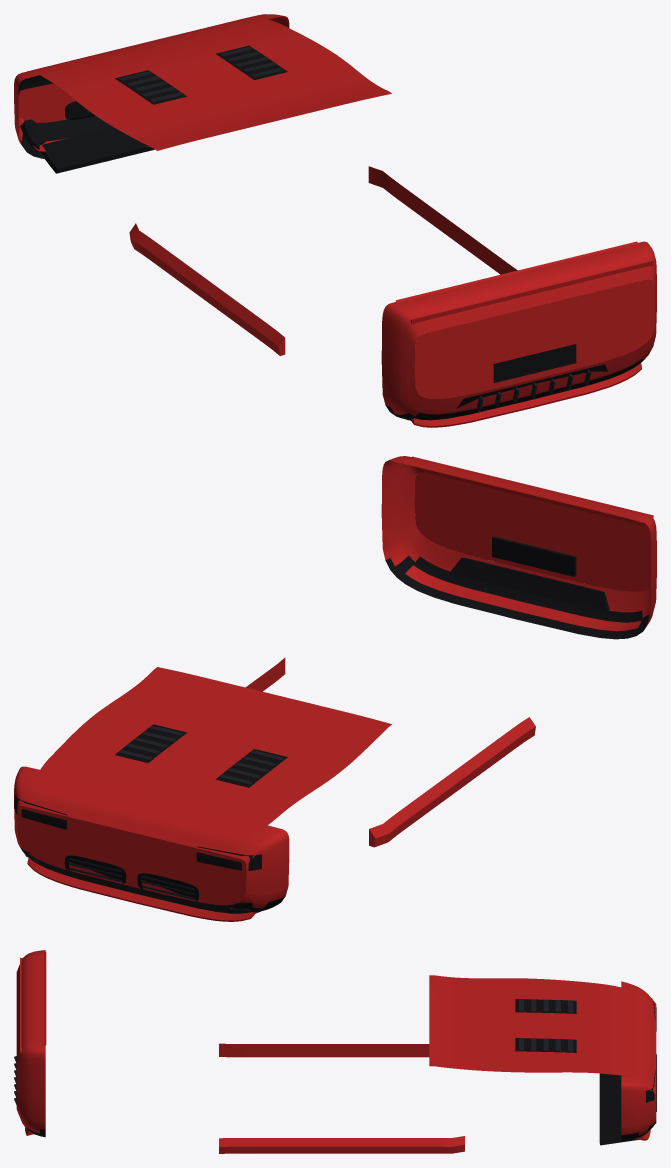
The model's file is kit_street.glb.
3 renders of one model, top to bottom at view 1: azimuth 30°, elevation 25°; view 2: azimuth 150°, elevation 25°; view 3: azimuth 270°, elevation 25°, orthographic. The views are drawn at different scales.
Visible parts, largest first — view 1: bumper_front__street, hood__street, bumper_rear__street, skirts__street, spoiler__street; view 2: bumper_front__street, hood__street, bumper_rear__street, skirts__street; view 3: hood__street, bumper_front__street, skirts__street, bumper_rear__street, spoiler__street.
Part boxes in pixels (<box>): bumper_front__street: <box>14,14,654,399</box>; hood__street: <box>40,19,391,150</box>; bumper_rear__street: <box>381,241,656,427</box>; skirts__street: <box>129,166,517,355</box>; spoiler__street: <box>395,241,653,324</box>; bumper_front__street: <box>14,472,651,921</box>; hood__street: <box>40,667,391,825</box>; bumper_rear__street: <box>381,456,656,639</box>; skirts__street: <box>245,657,535,847</box>; hood__street: <box>429,975,621,1075</box>; bumper_front__street: <box>599,981,656,1145</box>; skirts__street: <box>219,1043,464,1153</box>; bumper_rear__street: <box>14,950,45,1137</box>; spoiler__street: <box>20,952,46,1054</box>.
Size of what is drawn, in the model's own units: 1.77 by 0.8381 by 4.6.
